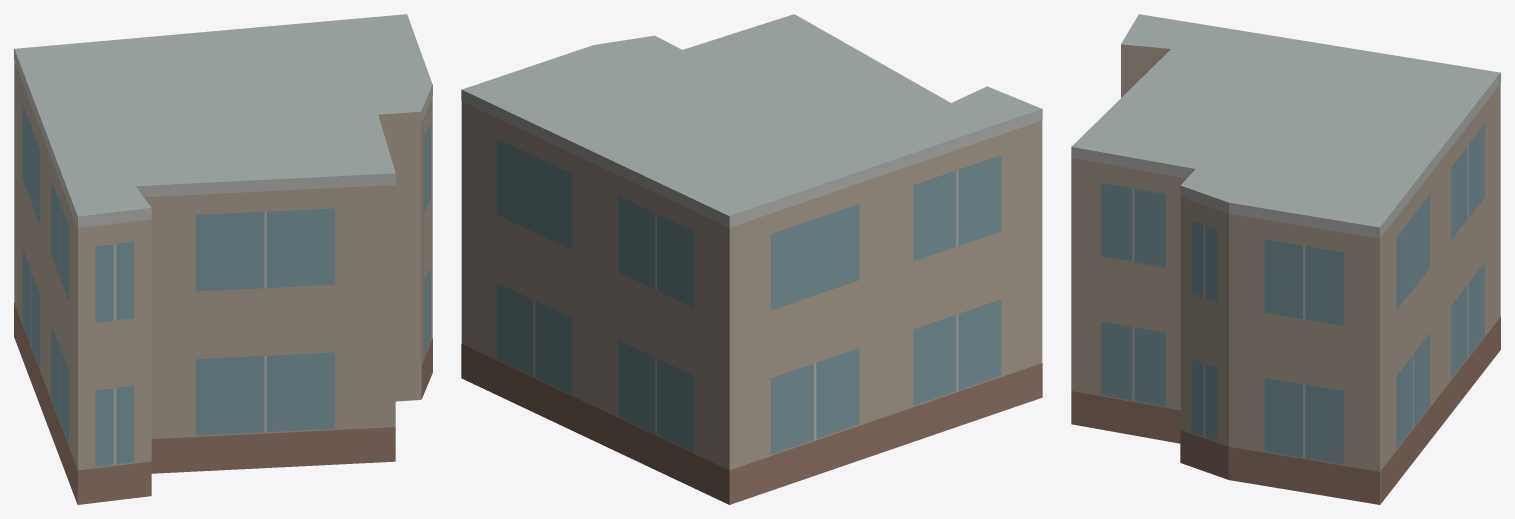
The model's file is survey-upis-32753761.glb.
The picture shows the model from 3 angles, left to right: view 1: azimuth 30°, elevation 25°; view 2: azimuth 150°, elevation 25°; view 3: azimuth 270°, elevation 25°; orthographic projection. The views are drawn at different scales.
Parts seen in each view (by area): view 1: survey-upis-32753761.tmp; view 2: survey-upis-32753761.tmp; view 3: survey-upis-32753761.tmp.
Part boxes in pixels (x1,y1,x2,y2): survey-upis-32753761.tmp: (14, 14, 432, 504); survey-upis-32753761.tmp: (461, 14, 1042, 504); survey-upis-32753761.tmp: (1071, 14, 1500, 504).
Bounding box in the file's own units: 10.08 × 6.1 × 8.57.
